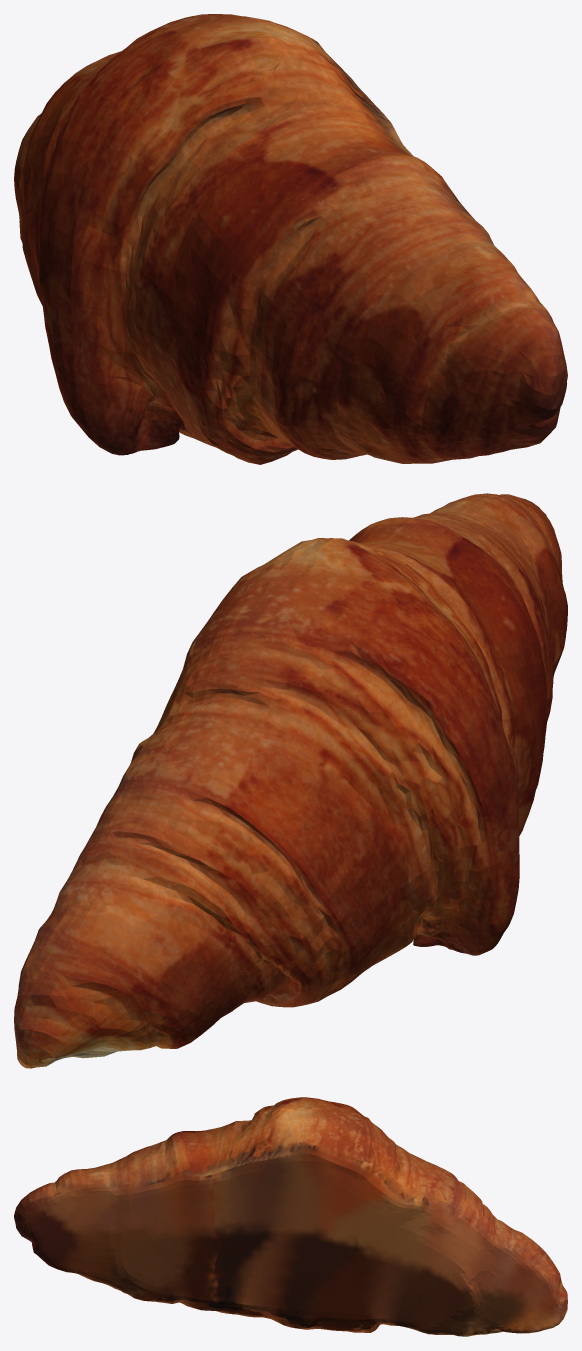
File: 4BAZ15083WX48DEQ00S24L1QT.obj
The picture shows the model from 3 angles, top to bottom: view 1: azimuth 30°, elevation 25°; view 2: azimuth 150°, elevation 25°; view 3: azimuth 270°, elevation 25°; orthographic projection. The views are drawn at different scales.
Parts seen in each view (by area): view 1: Object_TexMap_2, Object_TexMap_3; view 2: Object_TexMap_2, Object_TexMap_3; view 3: Object_TexMap_2, Object_TexMap_3.
Boxes of the visible parts, bbox=[...] form: Object_TexMap_2: bbox=[14, 14, 567, 464]; Object_TexMap_3: bbox=[14, 27, 565, 462]; Object_TexMap_2: bbox=[14, 494, 567, 1068]; Object_TexMap_3: bbox=[15, 493, 567, 1067]; Object_TexMap_2: bbox=[14, 1097, 567, 1336]; Object_TexMap_3: bbox=[16, 1098, 562, 1336].
Bounding box in the file's own units: 0.8326 × 1.11 × 2.5.
Materials: 1 (1 with a texture image).
